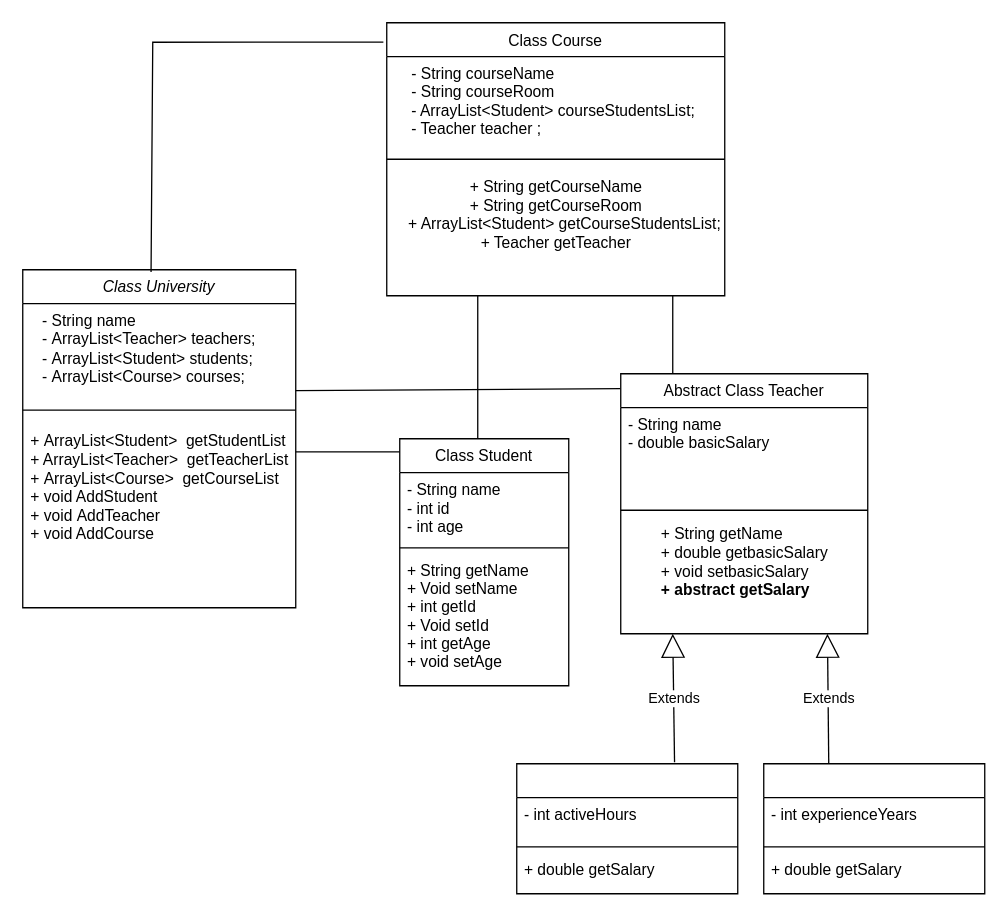
The diagram is 1007 pixels wide and 920 high, and some of its shapes have lost their labels. Each missing label, with the box of its shape:
Class FullTimeTeacher: (762, 762, 985, 894)
Class PartTimeTeacher: (515, 762, 738, 894)
